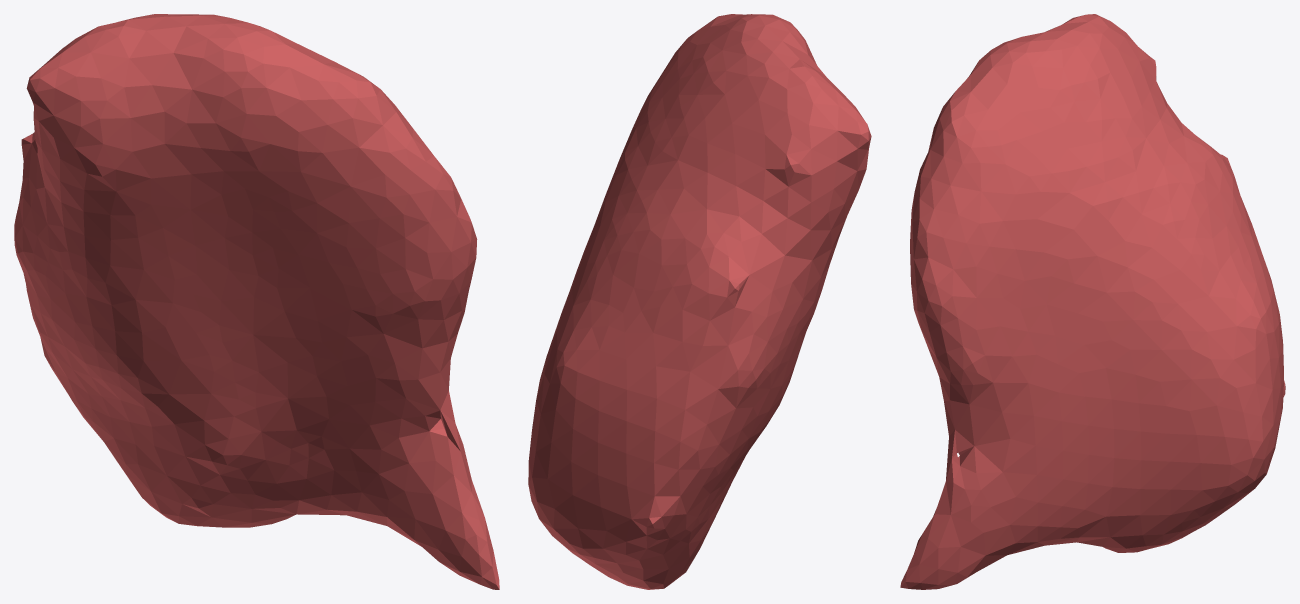
File: Left_Accumbens.glb
The picture shows the model from 3 angles, left to right: view 1: azimuth 30°, elevation 25°; view 2: azimuth 150°, elevation 25°; view 3: azimuth 270°, elevation 25°; orthographic projection. The views are drawn at different scales.
Parts seen in each view (by area): view 1: world; view 2: world; view 3: world.
Part boxes in pixels (box(x1,y1,x2,y2)): world: box(14, 14, 499, 589); world: box(528, 14, 871, 589); world: box(900, 14, 1285, 589).
Bounding box in the file's own units: 11.25 × 16.84 × 12.42.
